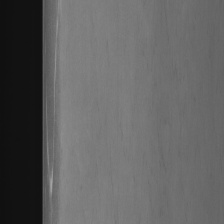silk_spot: (44, 1, 73, 201)
